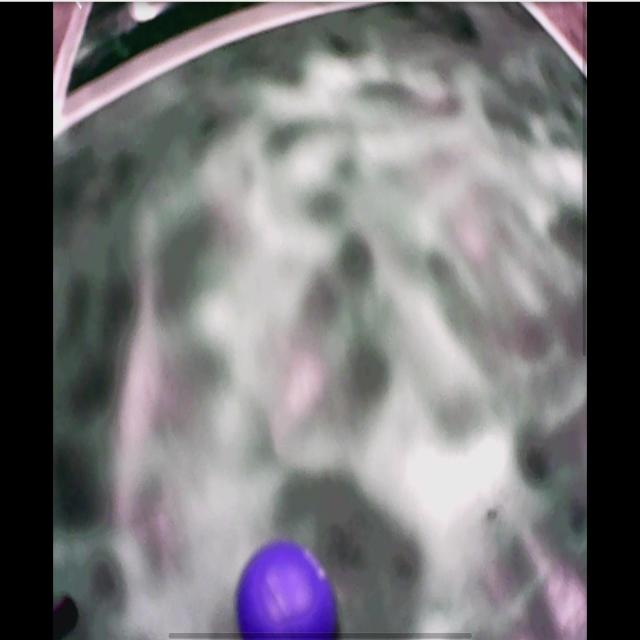ball: (237, 545, 338, 640)
